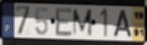1: (100, 9, 108, 39)
5: (34, 6, 49, 36)
7: (15, 5, 31, 38)
A: (113, 10, 133, 39)
E: (55, 7, 73, 37)
M: (72, 8, 94, 37)
